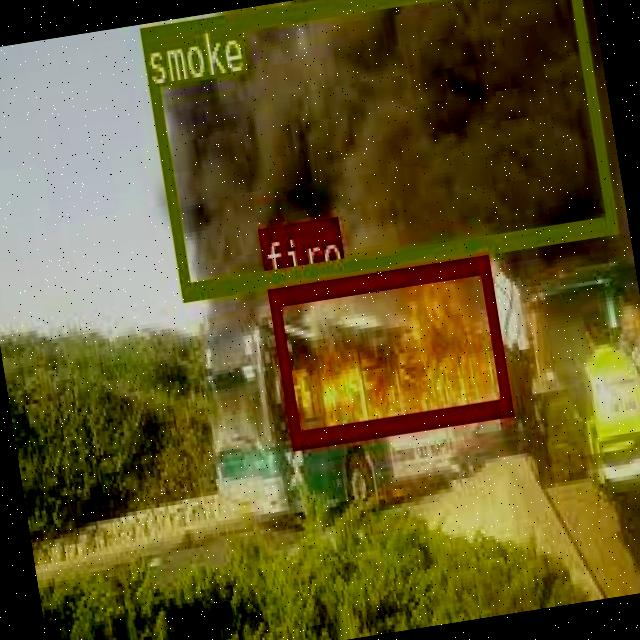fire: (266, 252, 510, 446)
smoke: (138, 0, 616, 299)
